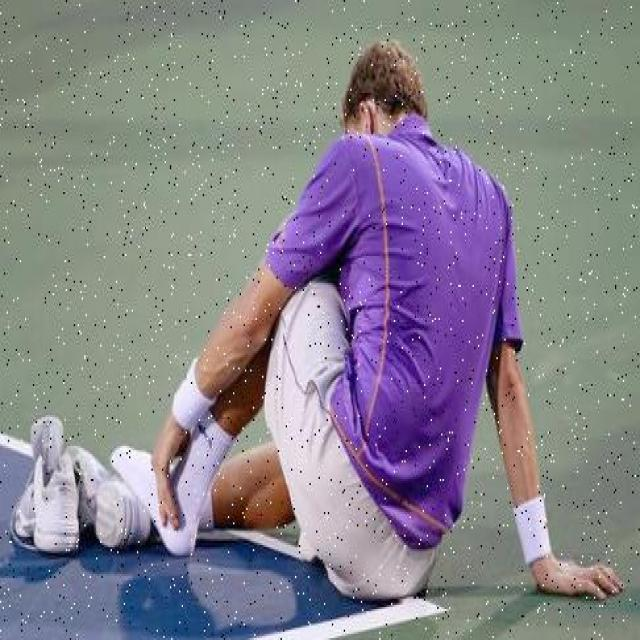fall: (133, 45, 562, 576)
